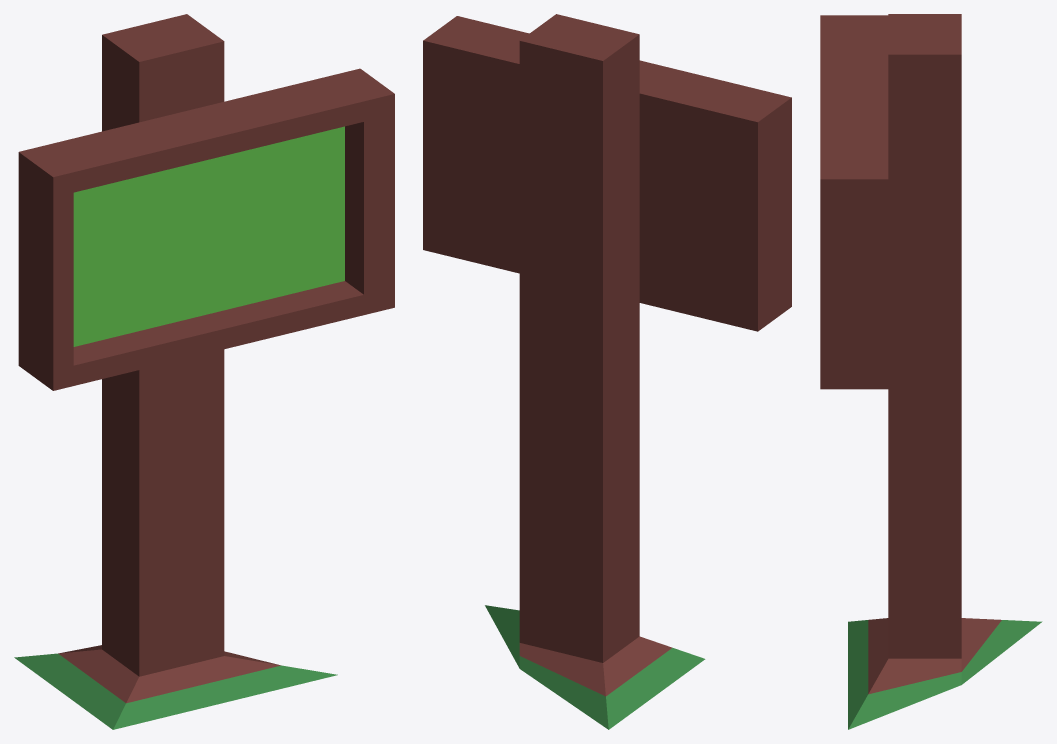
File: sign.fbx
3 renders of one model, left to right at view 1: azimuth 30°, elevation 25°; view 2: azimuth 150°, elevation 25°; view 3: azimuth 270°, elevation 25°, orthographic. The views are drawn at different scales.
Parts seen in each view (by area): view 1: Sign; view 2: Sign; view 3: Sign.
Part boxes in pixels (left/top/right/bottom): Sign: left=14, top=14, right=394, bottom=729; Sign: left=423, top=14, right=791, bottom=729; Sign: left=820, top=14, right=1042, bottom=729.
Size of the model in its own units: 11.08 by 19.88 by 6.35.
